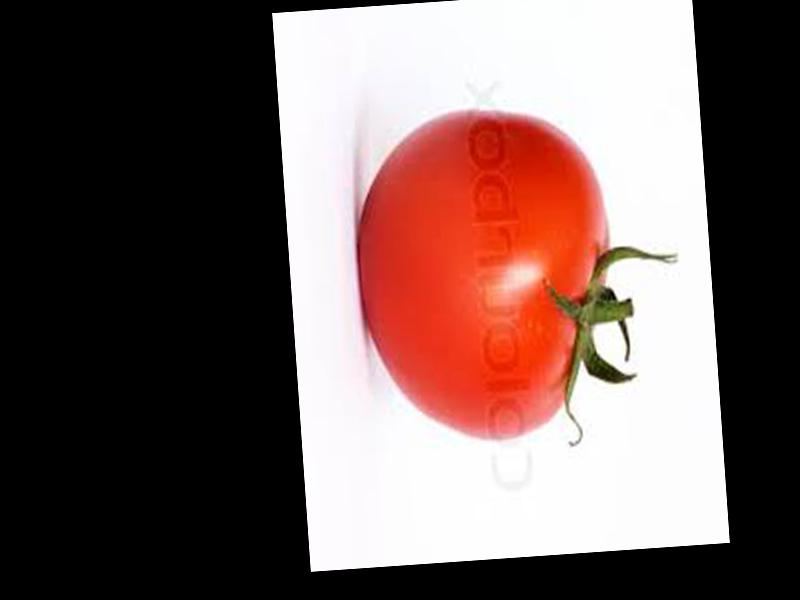Tomato: (351, 102, 623, 445)
